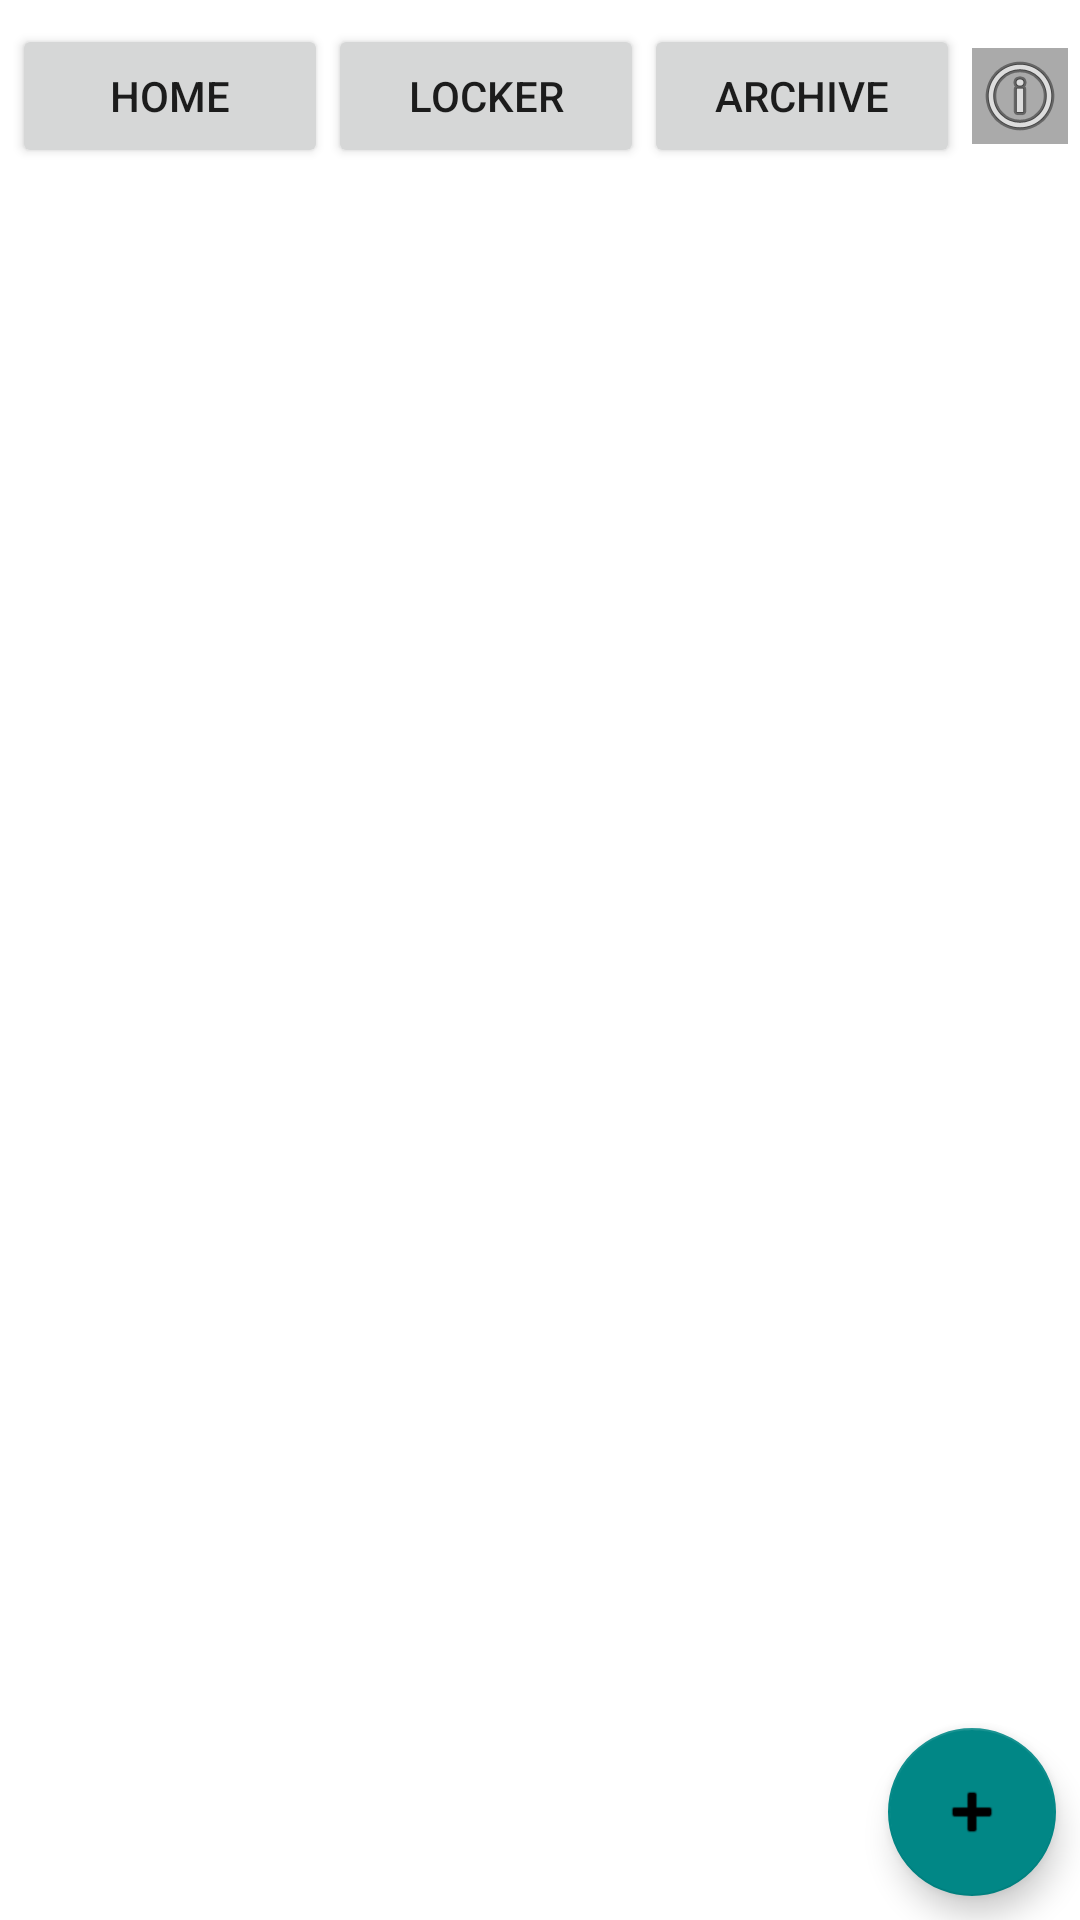

Icons on this 1080x1920 Android screen, each with its box as (x1, y1, x2, y2):
add medicine: (888, 1728, 1056, 1896)
info details: (972, 48, 1068, 144)
